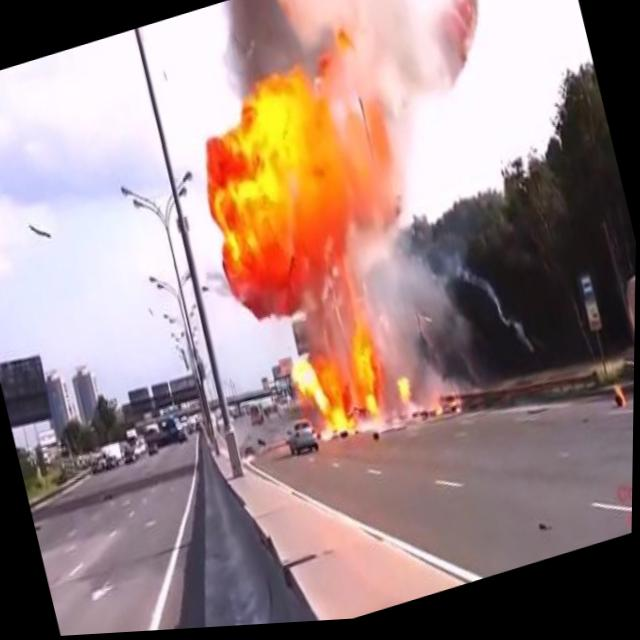fire: (171, 20, 447, 340), (276, 298, 470, 473), (609, 382, 630, 416)
